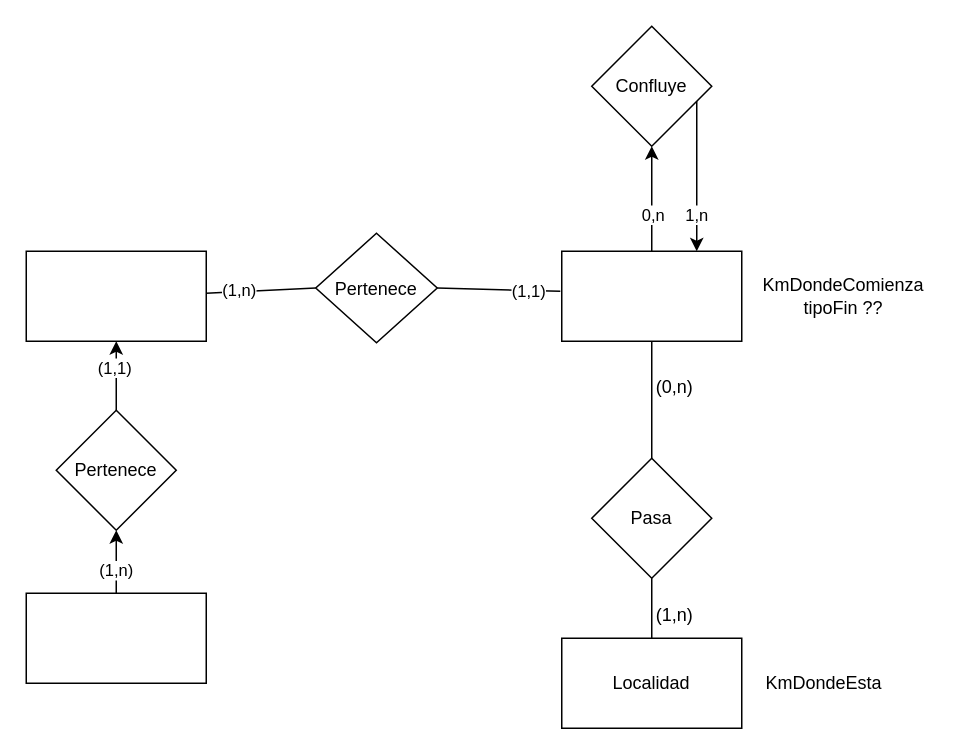
This 953x755 diagram has some shape labels left out. The shapes that lost their labels are listed below. From the top down, each one's box as (x1, y1, x2, y2) in pixels, then its label:
(25, 250, 206, 341): Ruta
(560, 250, 742, 341): Tramo
(25, 592, 206, 683): Categoria
